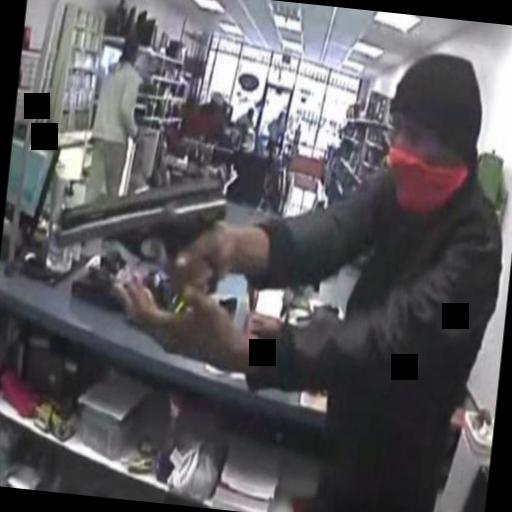Handgun: (48, 157, 228, 305)
